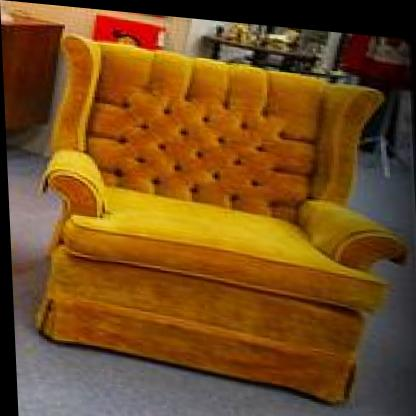Sofa: (24, 29, 406, 403)
